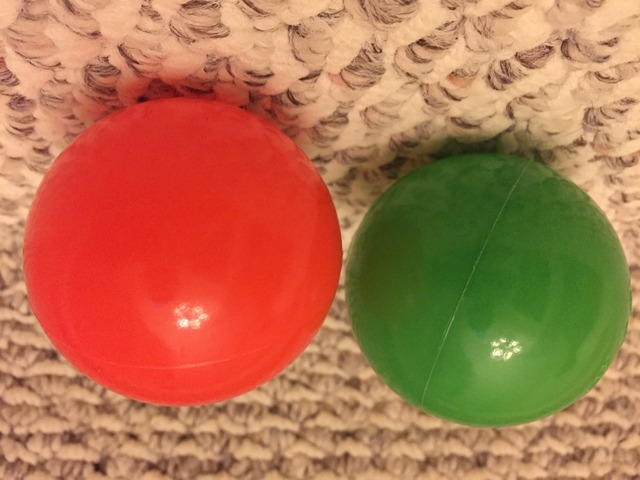Ball: (346, 154, 630, 420)
